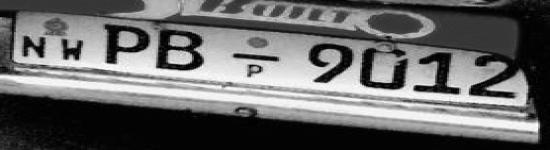-: (228, 50, 283, 64)
0: (358, 46, 408, 92)
1: (409, 50, 463, 98)
2: (467, 53, 521, 100)
9: (305, 42, 357, 85)
B: (154, 27, 209, 73)
N: (20, 35, 50, 60)
P: (102, 21, 153, 67)
W: (59, 37, 89, 63)
